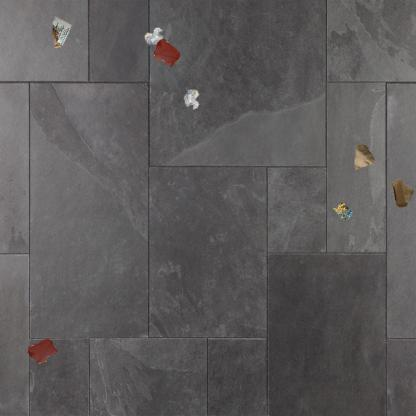dirty: (50, 14, 74, 50), (390, 177, 416, 209), (353, 142, 377, 172), (331, 201, 355, 223), (142, 26, 165, 47), (182, 88, 201, 111)
liquid: (152, 38, 181, 68), (27, 337, 57, 364)
